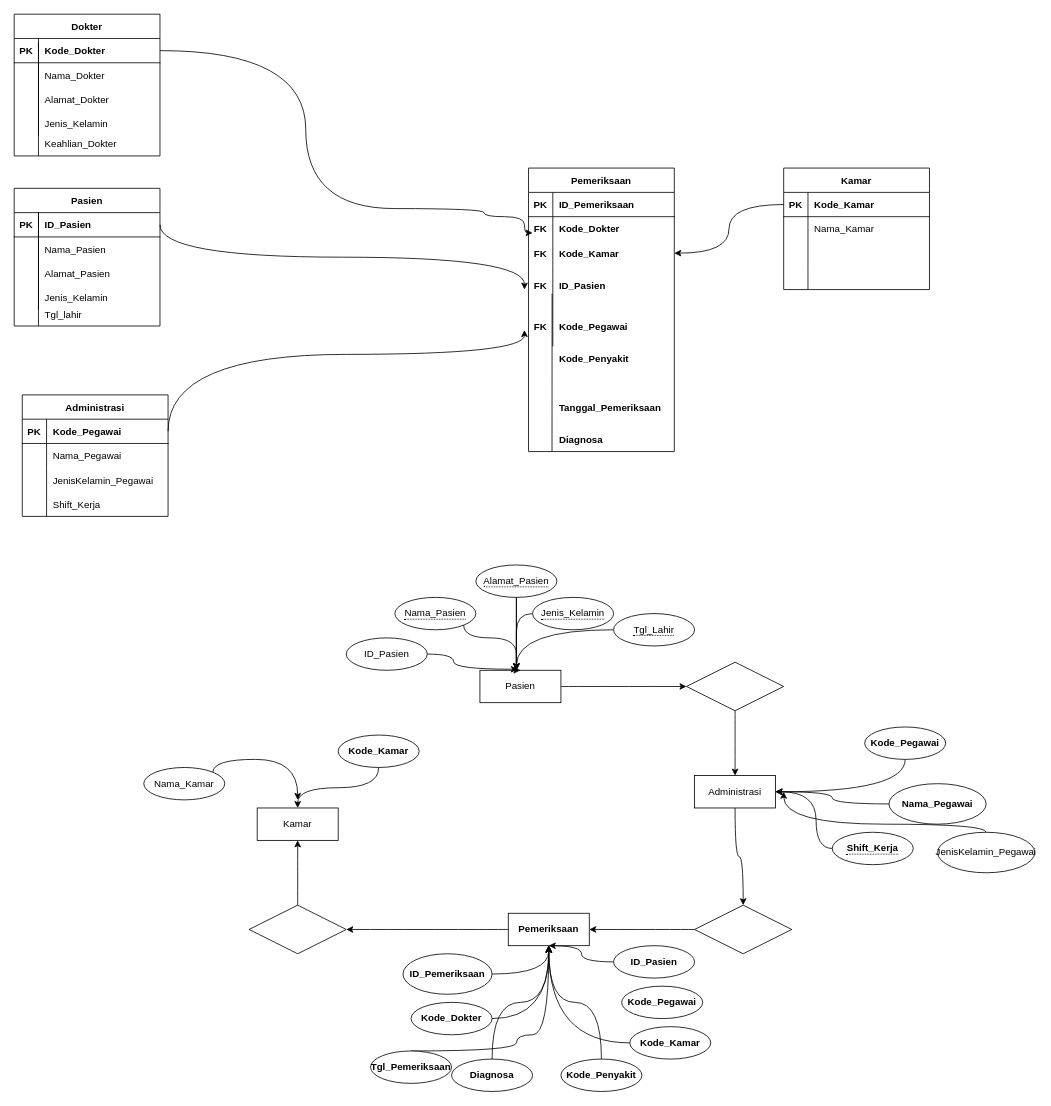
Some shapes in this 1051 by 1106 pixel diagram are drawn without their labels. Each missing label, with the box of its shape:
DIlakukan: (694, 904, 792, 954)
Melakukan: (686, 661, 784, 711)
Mendapatkan: (248, 904, 346, 954)
